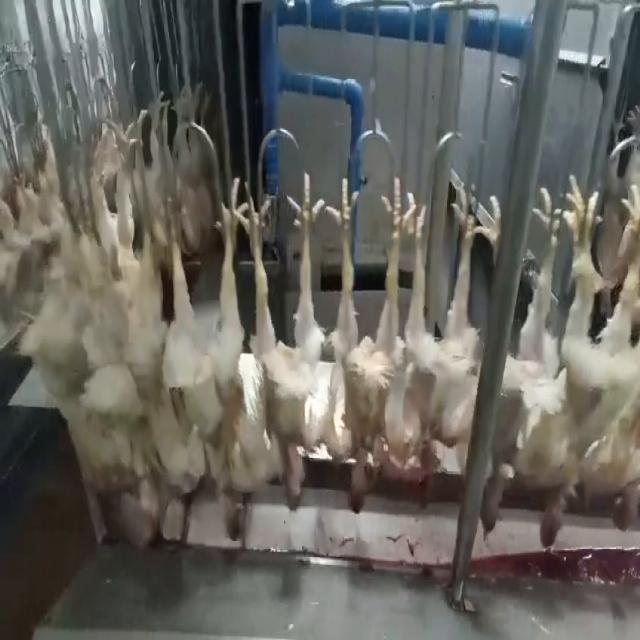chicken: (164, 168, 252, 546), (321, 172, 412, 513), (526, 172, 601, 550), (394, 169, 478, 502), (248, 170, 326, 509), (97, 189, 167, 543), (595, 118, 637, 535)
